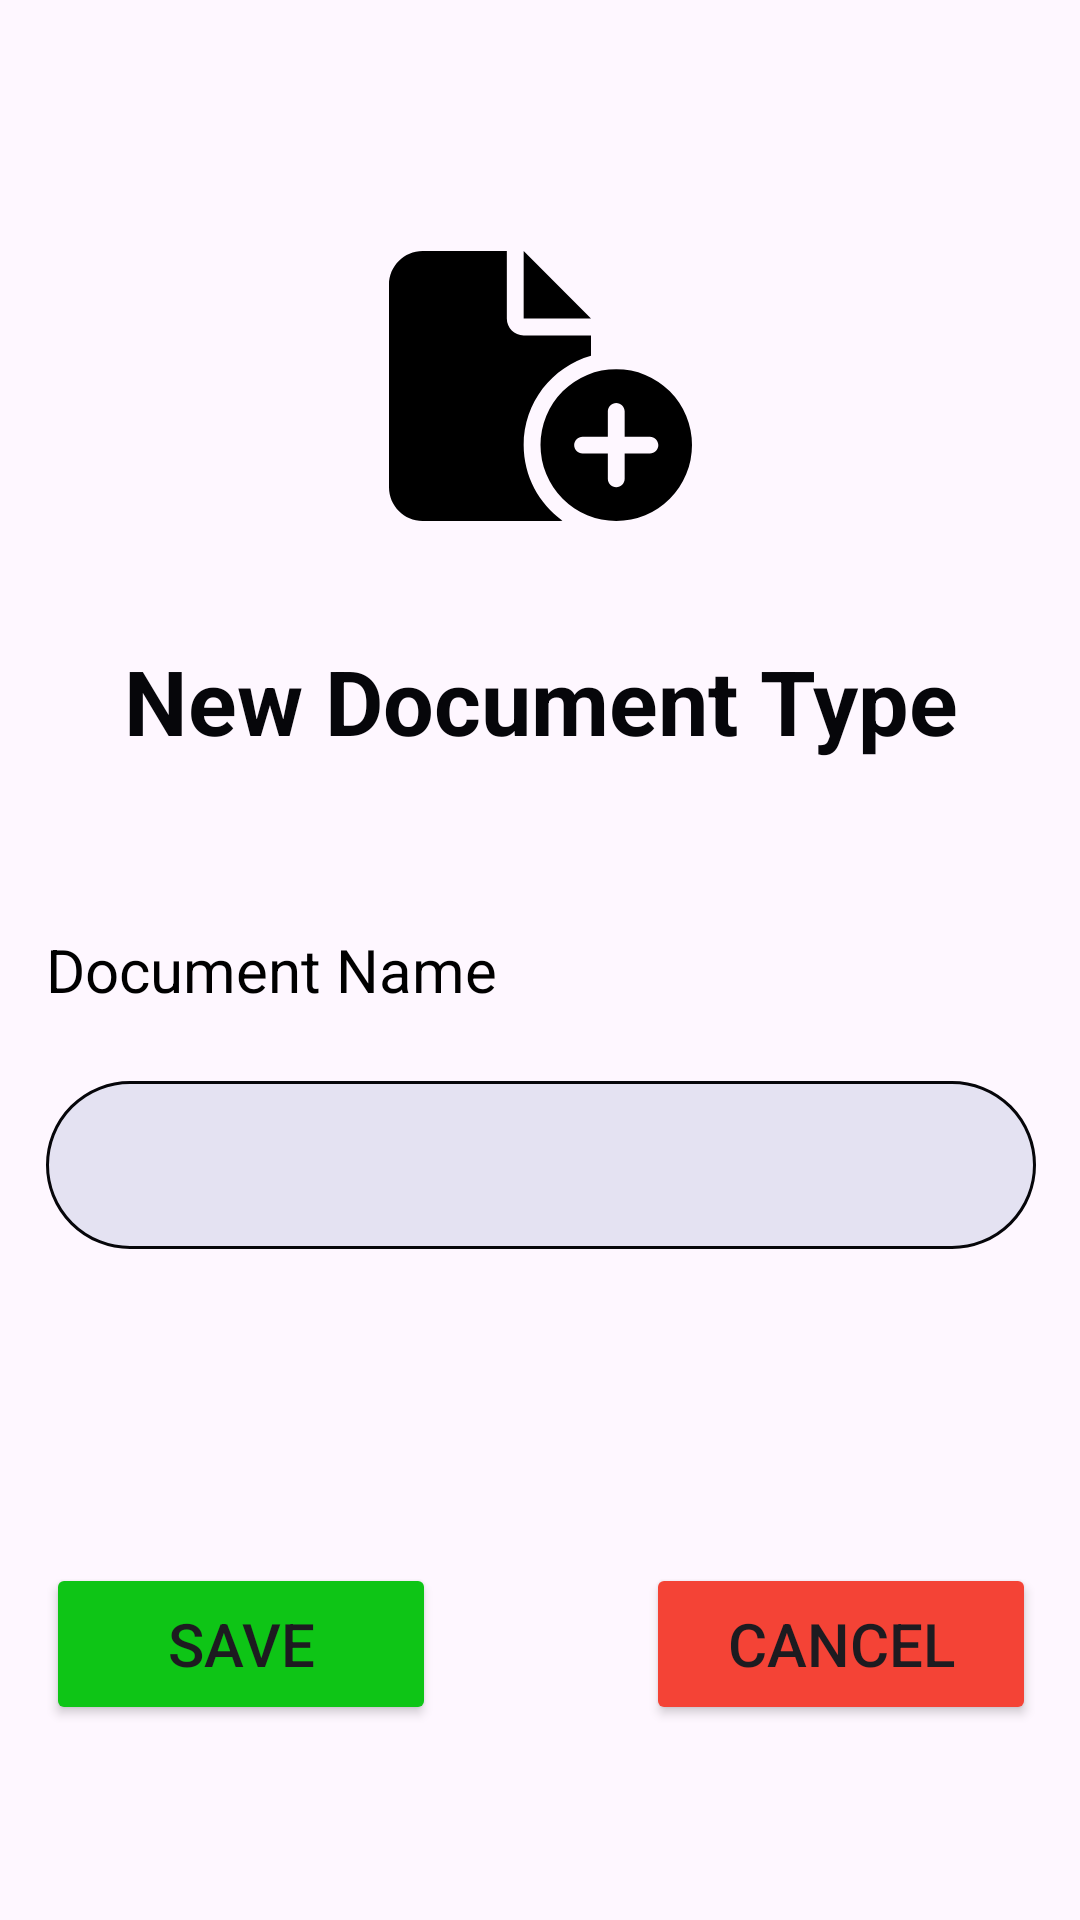

Named icons in this screenshot (1080w x 1920h) and their centers, (x,y):
file circle plus: (540,386)
